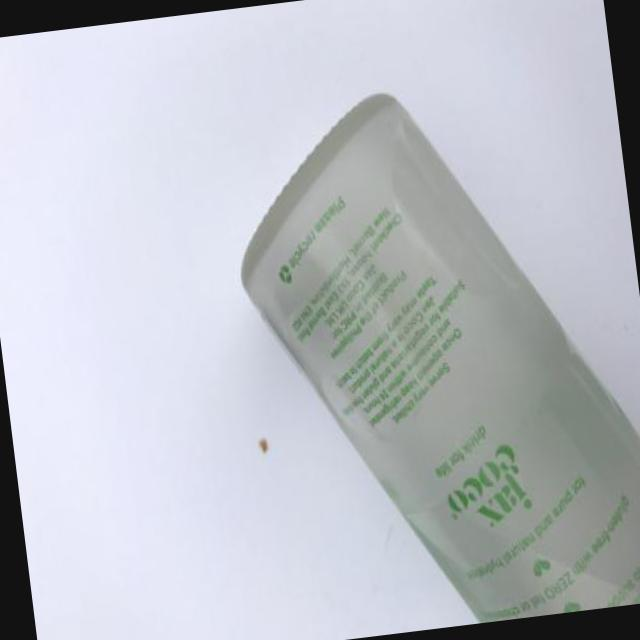chai_thuy_tinh: (244, 94, 640, 619)
